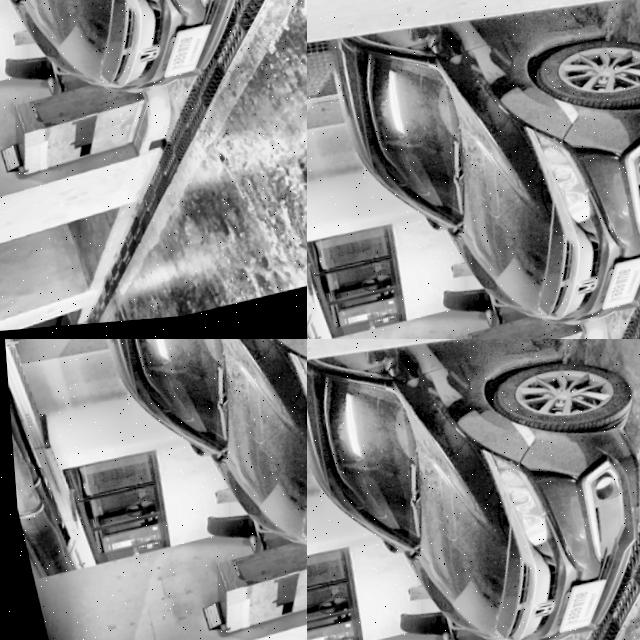license-plate: (540, 580, 614, 640), (307, 30, 326, 76), (4, 339, 38, 348)
